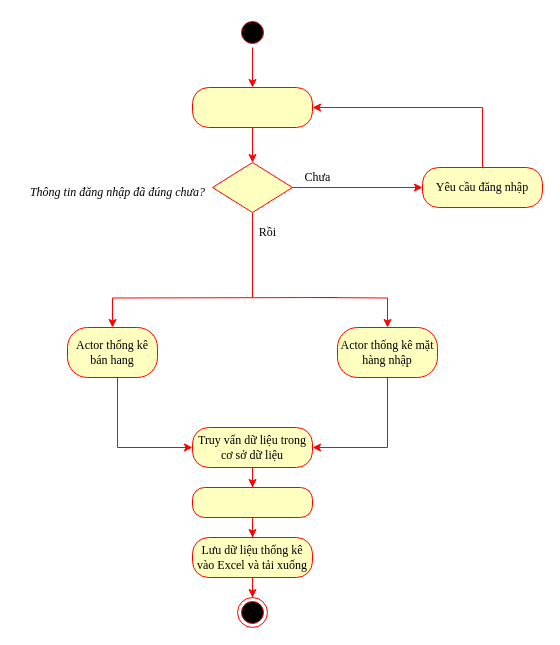
Some shapes in this 560 by 645 pixel diagram are drawn without their labels. Here are the shapes that lost their labels. From the top down, the box of each, then its label:
(192, 86, 312, 128): Actor đăng nhập
(192, 486, 312, 518): Chọn Export Excel
